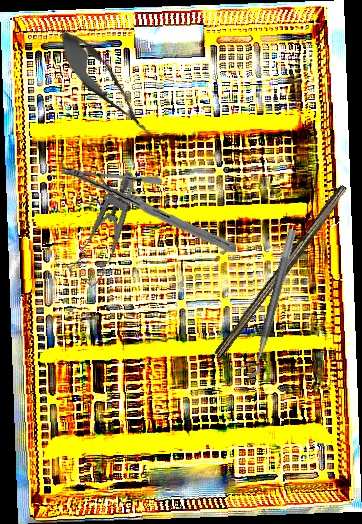Fixation Ring: (235, 225, 299, 380)
Micro Scissor: (47, 21, 165, 149)
Needle Holder: (60, 154, 237, 264)
Scalpel Handle: (214, 181, 351, 363)
Speculum: (53, 169, 165, 290)
